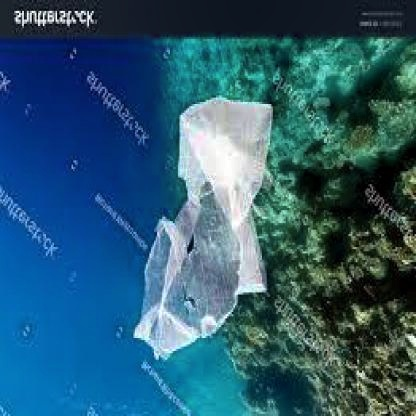pbag: (129, 95, 273, 364)
